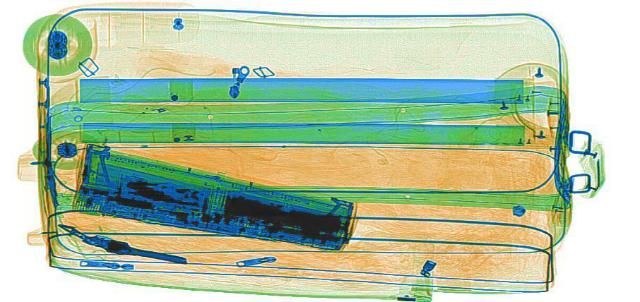Gun: (46, 217, 196, 270)
